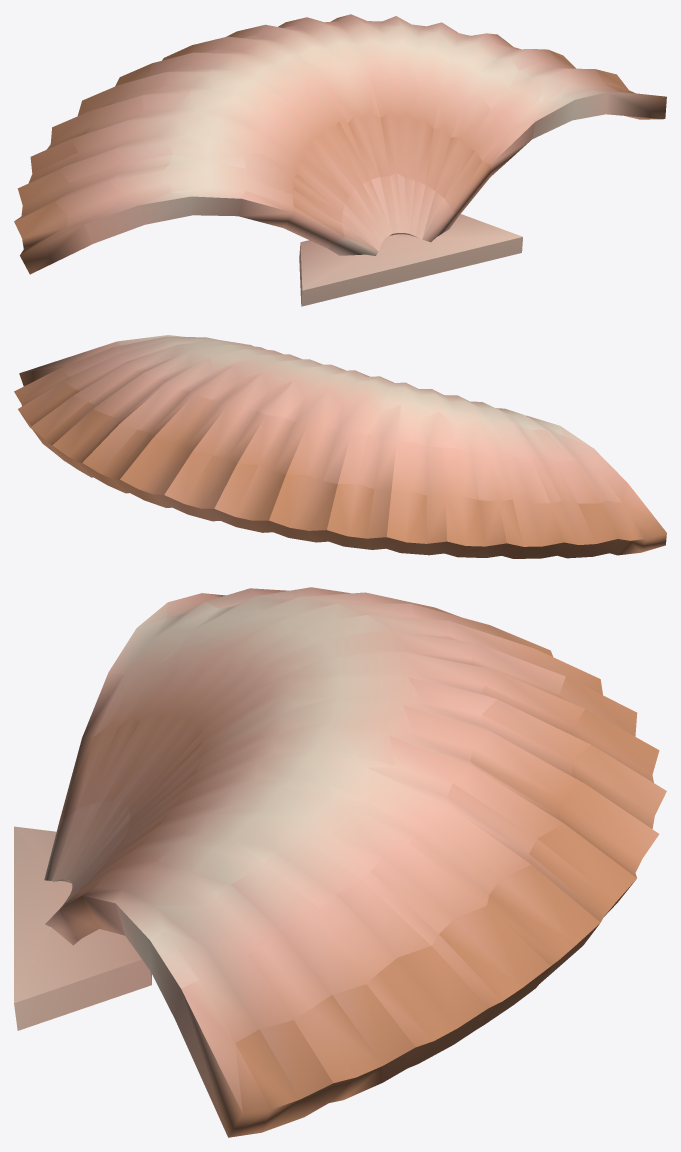
Rendered from shore_scallop_lod1.glb.
The picture shows the model from 3 angles, top to bottom: view 1: azimuth 30°, elevation 25°; view 2: azimuth 150°, elevation 25°; view 3: azimuth 270°, elevation 25°; orthographic projection. The views are drawn at different scales.
Parts seen in each view (by area): view 1: shore_scallop.001; view 2: shore_scallop.001; view 3: shore_scallop.001.
Boxes of the visible parts, x1,y1,x2,y2 form: shore_scallop.001: [14, 14, 666, 306]; shore_scallop.001: [14, 335, 666, 558]; shore_scallop.001: [14, 587, 666, 1137].
Bounding box in the file's own units: 7.97 × 1.91 × 4.24.
